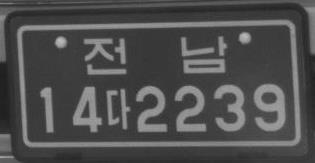1: (35, 85, 61, 134)
2: (134, 84, 168, 134), (174, 84, 207, 134)
3: (212, 82, 246, 134)
4: (72, 85, 103, 133)
9: (252, 82, 287, 134)
다: (105, 87, 131, 131)
전남_D: (82, 34, 228, 75)
